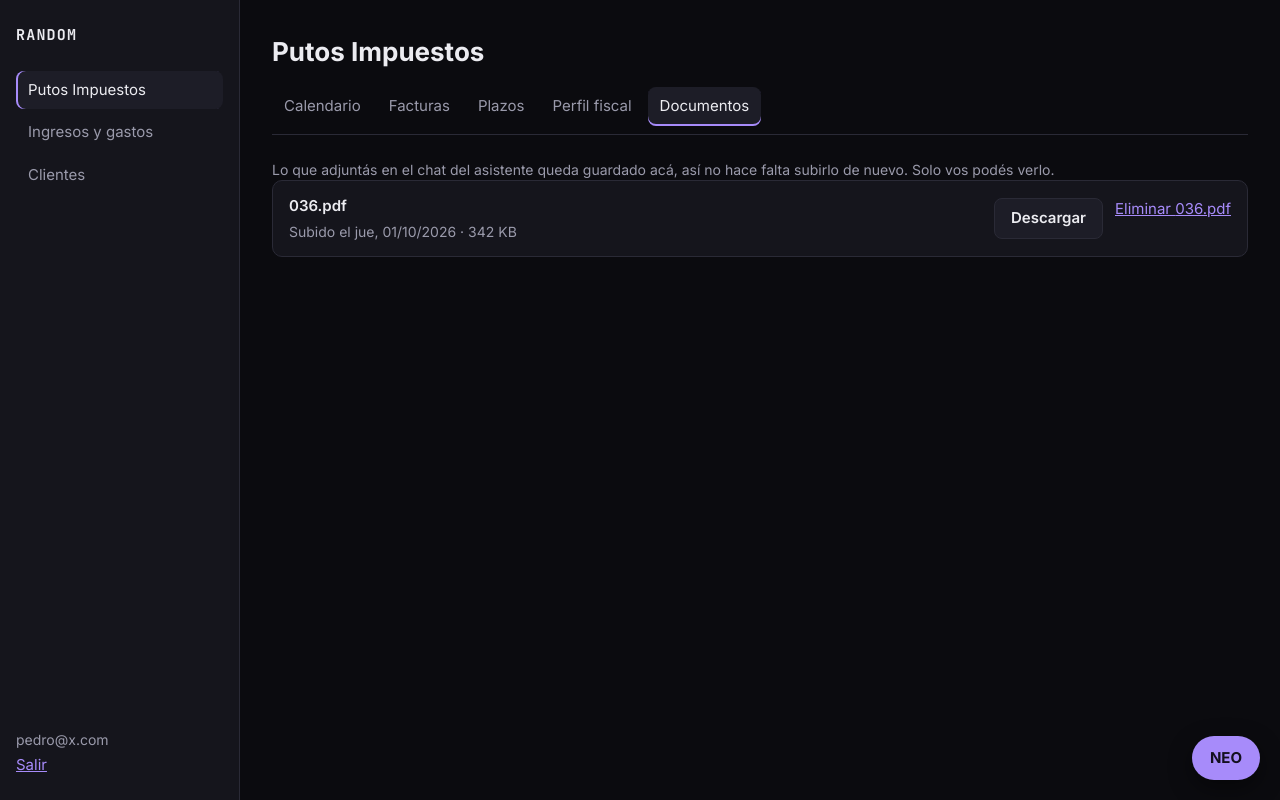
Test: documentos › al confirmar borra el documento y recarga la lista
The image size is (1280, 800).
Click the button "Eliminar 036.pdf" at (1173, 209), box [1115,198,1231,220]
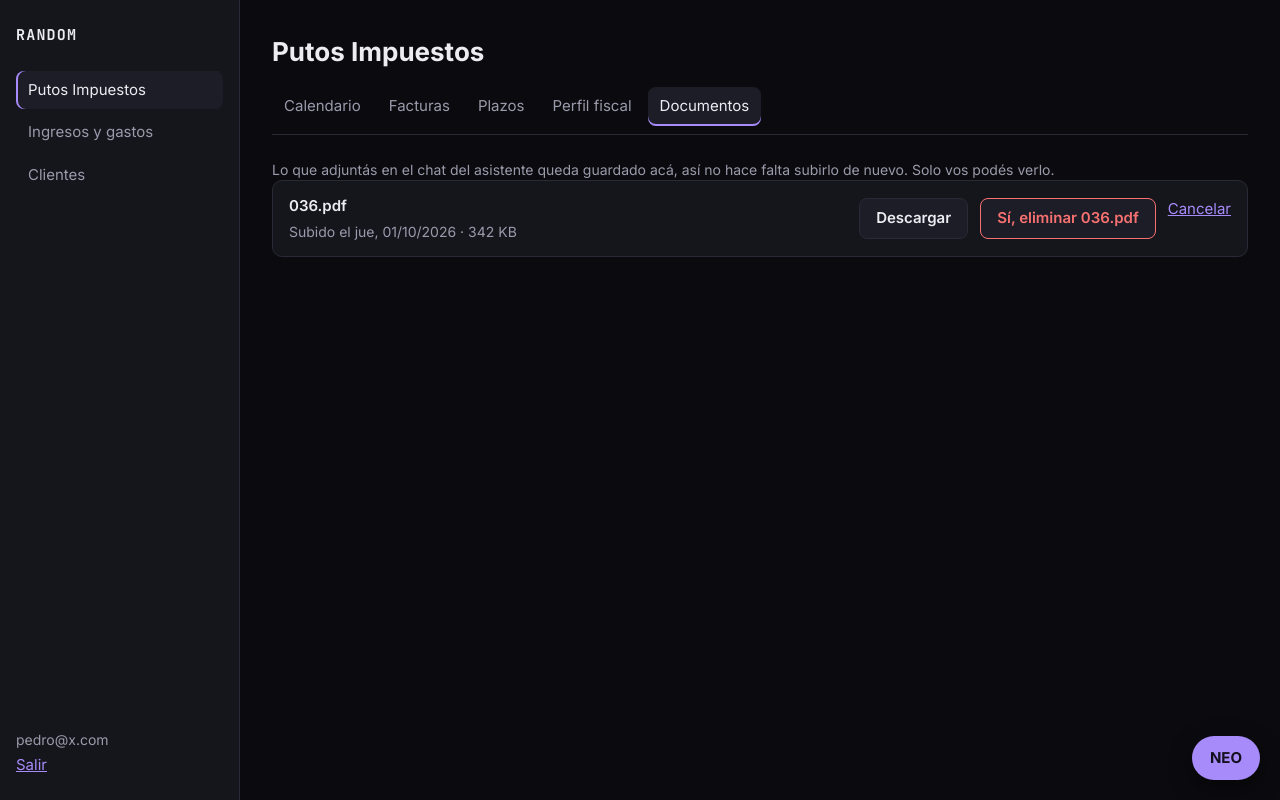
Click the button "Sí, eliminar 036.pdf" at (1068, 218), box [980,198,1156,238]
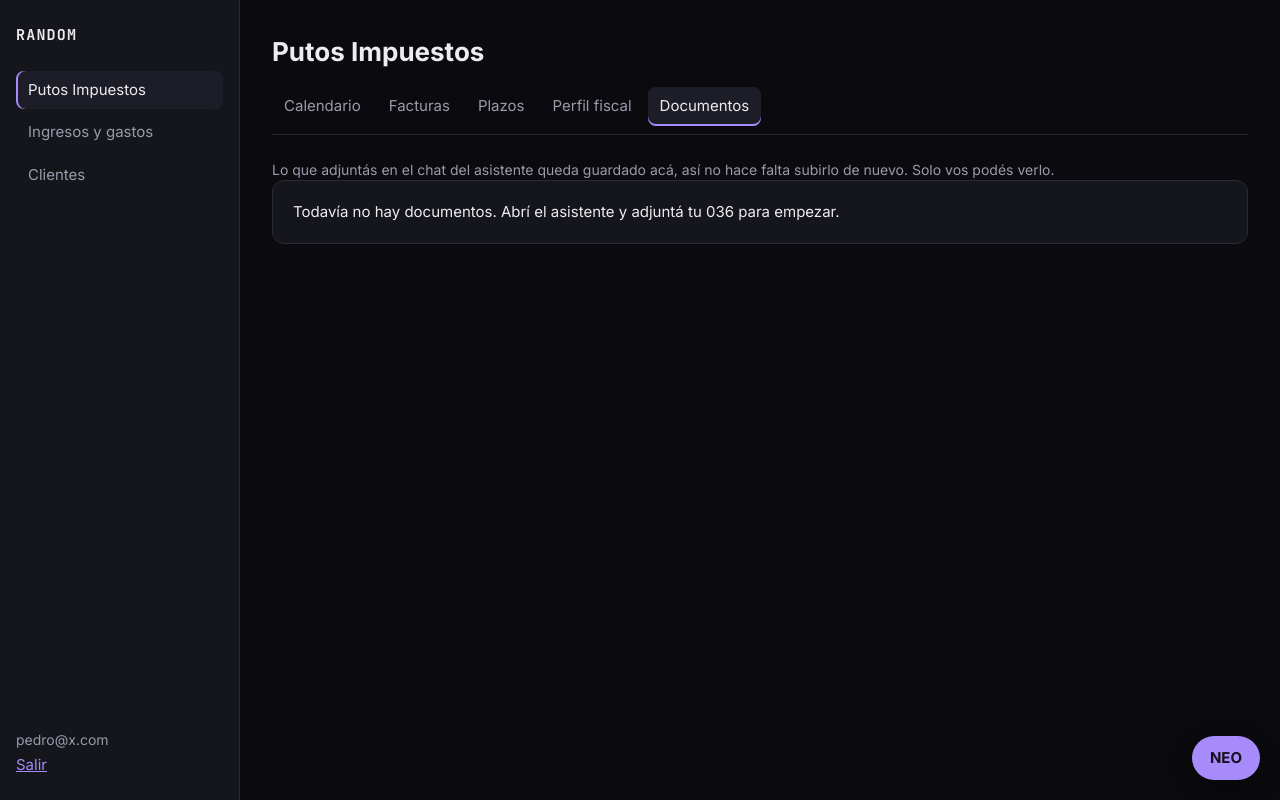
Expected: the text "Todavía no hay documentos" is shown, [293,202,840,220]
